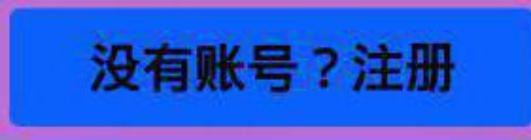Button: (1, 1, 530, 139)
